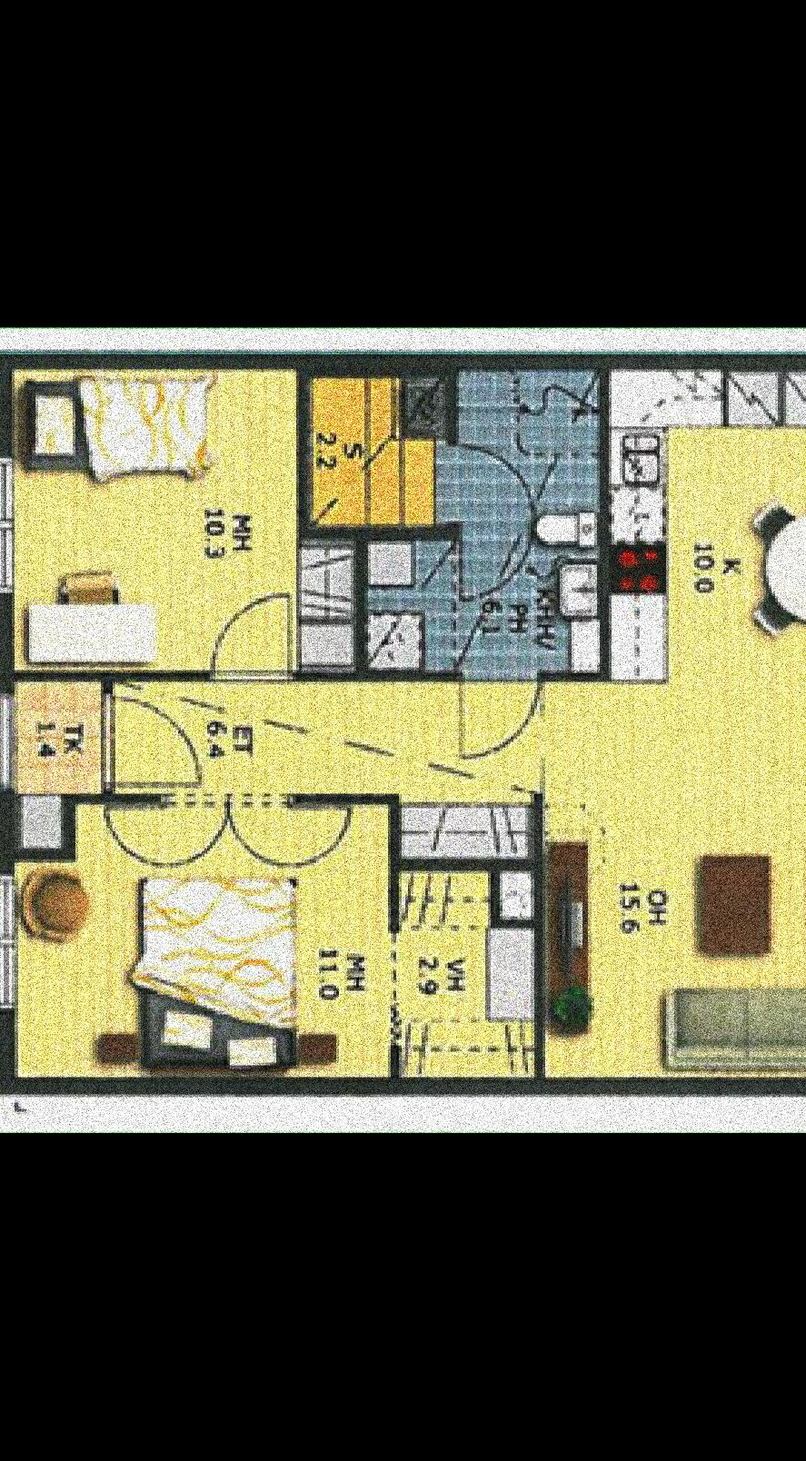door: (104, 803, 354, 867), (445, 442, 538, 602), (199, 589, 291, 696), (445, 669, 536, 770), (109, 698, 200, 784)
window: (0, 874, 18, 1012), (0, 445, 16, 600)
zone: (19, 673, 547, 1082), (551, 374, 806, 1071), (299, 362, 617, 673), (26, 805, 388, 1072), (15, 368, 291, 668)
